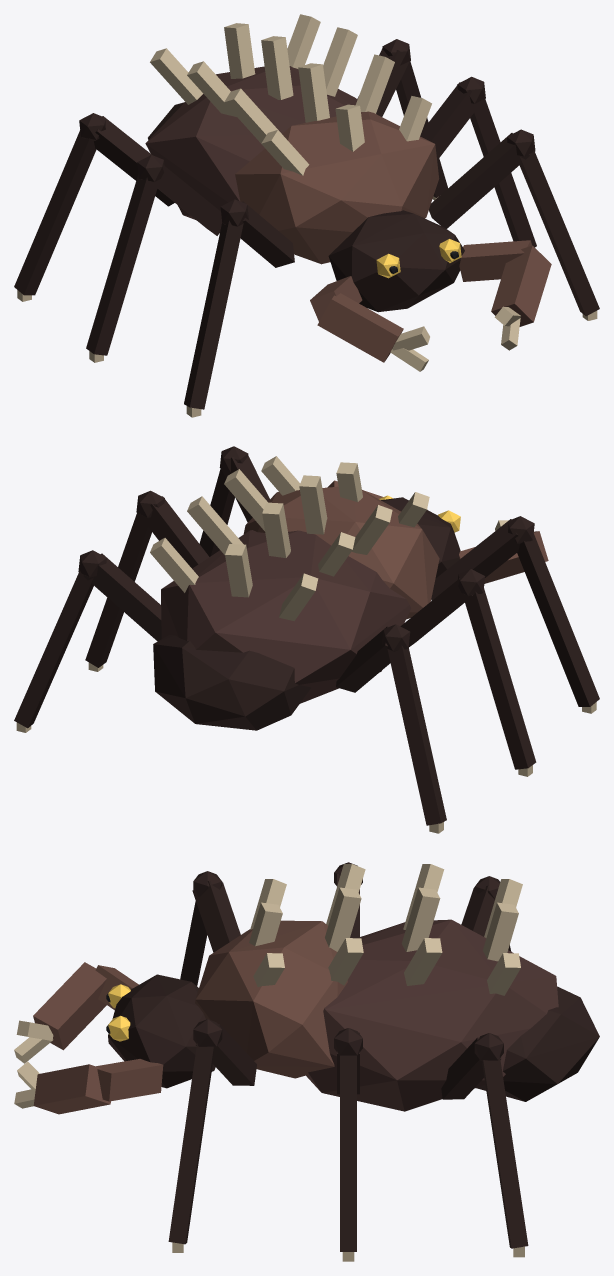
File: ennemi_gardien.glb
The picture shows the model from 3 angles, top to bottom: view 1: azimuth 30°, elevation 25°; view 2: azimuth 150°, elevation 25°; view 3: azimuth 270°, elevation 25°; orthographic projection. The views are drawn at different scales.
Visible parts, largest first — view 1: corps_gardien_clair.002, pattes_a_gardien_sombre.002, corps_corne.002, pattes_b_gardien_sombre.002, corps_gardien.002, corps_gardien_sombre.002, corps_oeil.006; view 2: corps_gardien.002, pattes_a_gardien_sombre.002, pattes_b_gardien_sombre.002, corps_corne.002, corps_gardien_sombre.002, corps_gardien_clair.002; view 3: corps_gardien.002, corps_gardien_clair.002, corps_corne.002, corps_gardien_sombre.002, pattes_b_gardien_sombre.002, pattes_a_gardien_sombre.002, corps_oeil.006.
Part boxes in pixels (bbox=[...]): corps_gardien_clair.002: bbox=[235, 111, 551, 362]; pattes_a_gardien_sombre.002: bbox=[14, 76, 536, 409]; corps_corne.002: bbox=[150, 14, 520, 371]; pattes_b_gardien_sombre.002: bbox=[86, 39, 599, 355]; corps_gardien.002: bbox=[145, 66, 357, 219]; corps_gardien_sombre.002: bbox=[148, 102, 464, 312]; corps_oeil.006: bbox=[376, 239, 461, 278]; corps_gardien.002: bbox=[161, 530, 411, 703]; pattes_a_gardien_sombre.002: bbox=[85, 490, 599, 825]; pattes_b_gardien_sombre.002: bbox=[14, 446, 536, 769]; corps_corne.002: bbox=[150, 456, 508, 621]; corps_gardien_sombre.002: bbox=[153, 497, 460, 730]; corps_gardien_clair.002: bbox=[243, 480, 548, 619]; corps_gardien.002: bbox=[306, 919, 558, 1111]; corps_gardien_clair.002: bbox=[33, 920, 347, 1114]; corps_corne.002: bbox=[14, 864, 522, 1108]; corps_gardien_sombre.002: bbox=[108, 974, 599, 1101]; pattes_b_gardien_sombre.002: bbox=[168, 862, 528, 1248]; pattes_a_gardien_sombre.002: bbox=[180, 871, 511, 1251]; corps_oeil.006: bbox=[108, 984, 130, 1041].
Size of the model in its own units: 1.31 by 0.6871 by 1.41.
